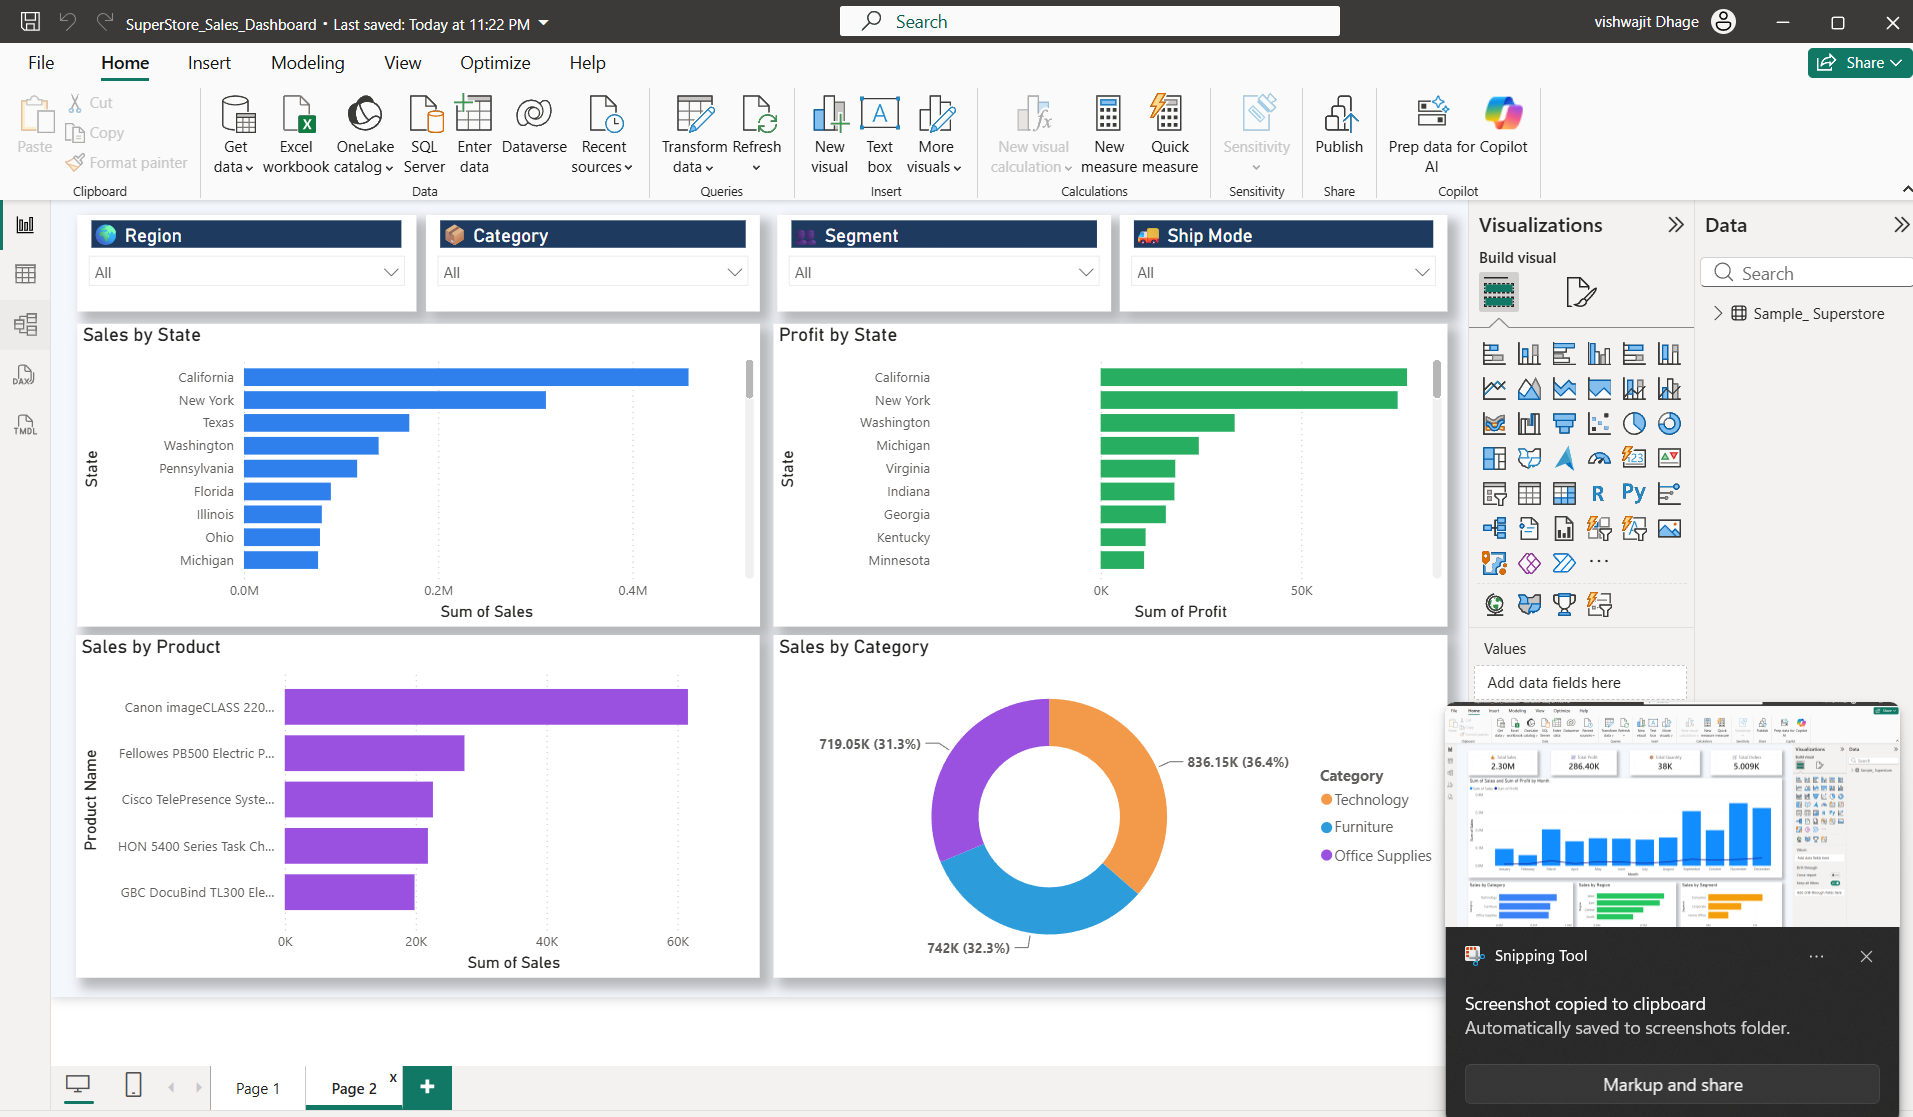

The page's visual inventory and layout, read from the dashboard file:
{"tool":"powerbi","page":{"name":"Page 2","canvas":[1280,720],"ordinal":1},"visuals":[{"type":"slicer","title":"🌍 Region","fields":{"Values":["Sample_ Superstore.Region"]},"box":[23.7,13.5,306,86.9],"z":0},{"type":"slicer","fields":{"Values":["Sample_ Superstore.Category"]},"box":[338.7,13.5,301.5,86.9],"z":1000},{"type":"slicer","fields":{"Values":["Sample_ Superstore.Segment"]},"box":[656,13.5,301.5,86.9],"z":2000},{"type":"slicer","fields":{"Values":["Sample_ Superstore.Ship Mode"]},"box":[965.4,13.5,295.8,86.9],"z":3000},{"type":"clusteredBarChart","title":"Sales by State","fields":{"Category":["Sample_ Superstore.State"],"Y":["Sum(Sample_ Superstore.Sales)"]},"box":[23.7,111.8,616.5,273.3],"z":4000},{"type":"barChart","title":"Profit by State","fields":{"Category":["Sample_ Superstore.State"],"Y":["Sum(Sample_ Superstore.Profit)"]},"box":[652.7,111.8,608.6,273.3],"z":5000},{"type":"barChart","title":"Sales by Product","fields":{"Category":["Sample_ Superstore.Product Name"],"Y":["Sum(Sample_ Superstore.Sales)"]},"box":[22.6,392.9,617.6,309.4],"z":6000},{"type":"donutChart","title":"Sales by Category","fields":{"Category":["Sample_ Superstore.Category"],"Y":["Sum(Sample_ Superstore.Sales)"]},"box":[652.7,392.9,608.6,309.4],"z":7000}]}

Visuals, with their boxes on the page's 1280x720 design canvas (x1, y1, x2, y2). These are canvas units, not pixel positions in the 1913x1117 screenshot, which may show the page scaled, cropped or inside an application window:
"🌍 Region" slicer: left=24, top=14, right=330, bottom=100
slicer - Sample_ Superstore.Category: left=339, top=14, right=640, bottom=100
slicer - Sample_ Superstore.Segment: left=656, top=14, right=958, bottom=100
slicer - Sample_ Superstore.Ship Mode: left=965, top=14, right=1261, bottom=100
"Sales by State" clusteredBarChart: left=24, top=112, right=640, bottom=385
"Profit by State" barChart: left=653, top=112, right=1261, bottom=385
"Sales by Product" barChart: left=23, top=393, right=640, bottom=702
"Sales by Category" donutChart: left=653, top=393, right=1261, bottom=702
